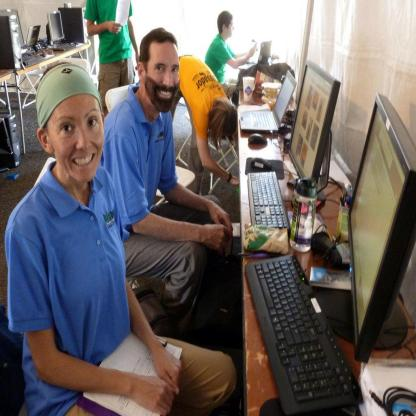board: (239, 67, 297, 134), (290, 178, 316, 251), (238, 40, 272, 70), (26, 26, 40, 46)
